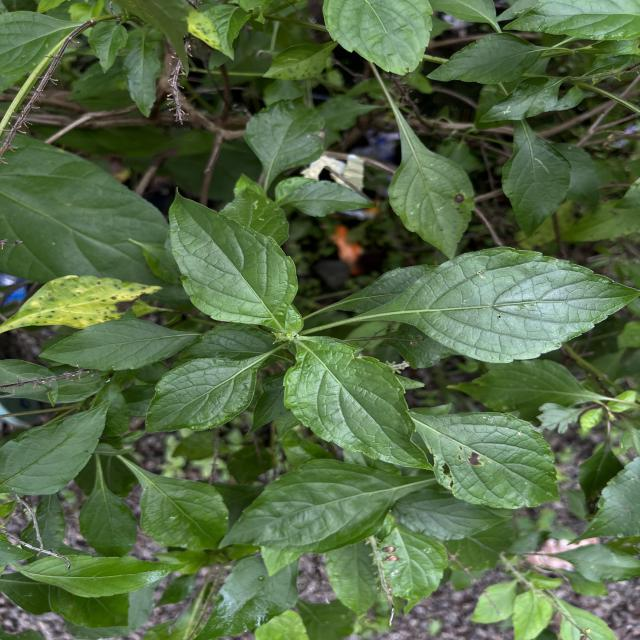Ocimum gratissimum: (330, 244, 640, 366), (213, 454, 438, 558), (280, 336, 440, 476), (163, 182, 300, 332), (382, 93, 478, 262), (414, 410, 570, 512), (143, 348, 274, 438), (0, 395, 114, 497), (32, 317, 206, 373), (498, 118, 576, 241), (10, 549, 190, 601), (319, 0, 436, 78), (423, 30, 558, 87), (499, 0, 640, 42)
